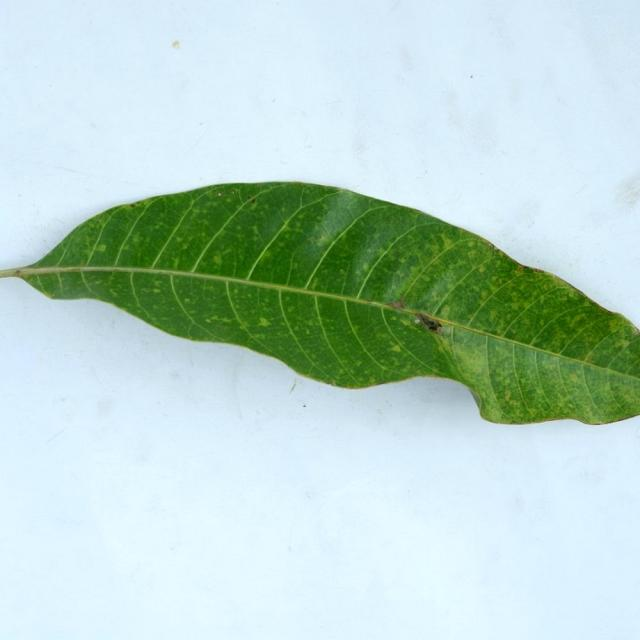Mango: (0, 182, 639, 424)
Powdery_Mildew: (567, 350, 635, 419), (375, 243, 434, 292), (555, 305, 605, 339), (498, 388, 528, 415), (313, 230, 335, 253), (253, 309, 274, 331), (283, 302, 306, 322), (92, 239, 109, 255), (204, 315, 233, 323), (260, 248, 275, 263), (441, 239, 454, 252), (567, 372, 581, 384), (316, 232, 330, 243), (220, 247, 233, 258), (334, 188, 353, 195), (440, 305, 451, 317), (467, 250, 480, 260), (212, 255, 222, 266), (131, 234, 142, 244), (361, 261, 371, 272), (493, 248, 505, 257), (477, 265, 487, 275), (488, 242, 498, 252), (390, 344, 402, 352), (250, 225, 259, 235), (292, 222, 302, 231), (249, 198, 258, 208), (172, 257, 180, 268), (504, 389, 512, 400), (480, 292, 489, 301), (310, 280, 319, 289), (516, 265, 527, 272), (398, 256, 407, 264), (327, 380, 337, 387), (153, 281, 162, 288), (534, 268, 544, 273), (233, 290, 240, 297), (494, 245, 501, 252), (176, 236, 184, 242), (354, 360, 362, 366), (152, 288, 161, 293), (339, 269, 346, 275), (110, 269, 118, 274), (305, 329, 311, 335), (390, 317, 397, 322), (14, 269, 21, 274), (636, 328, 640, 336), (184, 298, 190, 303), (415, 318, 420, 324), (205, 319, 212, 323), (129, 203, 136, 207), (366, 299, 373, 303), (231, 189, 236, 194), (247, 196, 252, 201), (217, 192, 221, 196)
